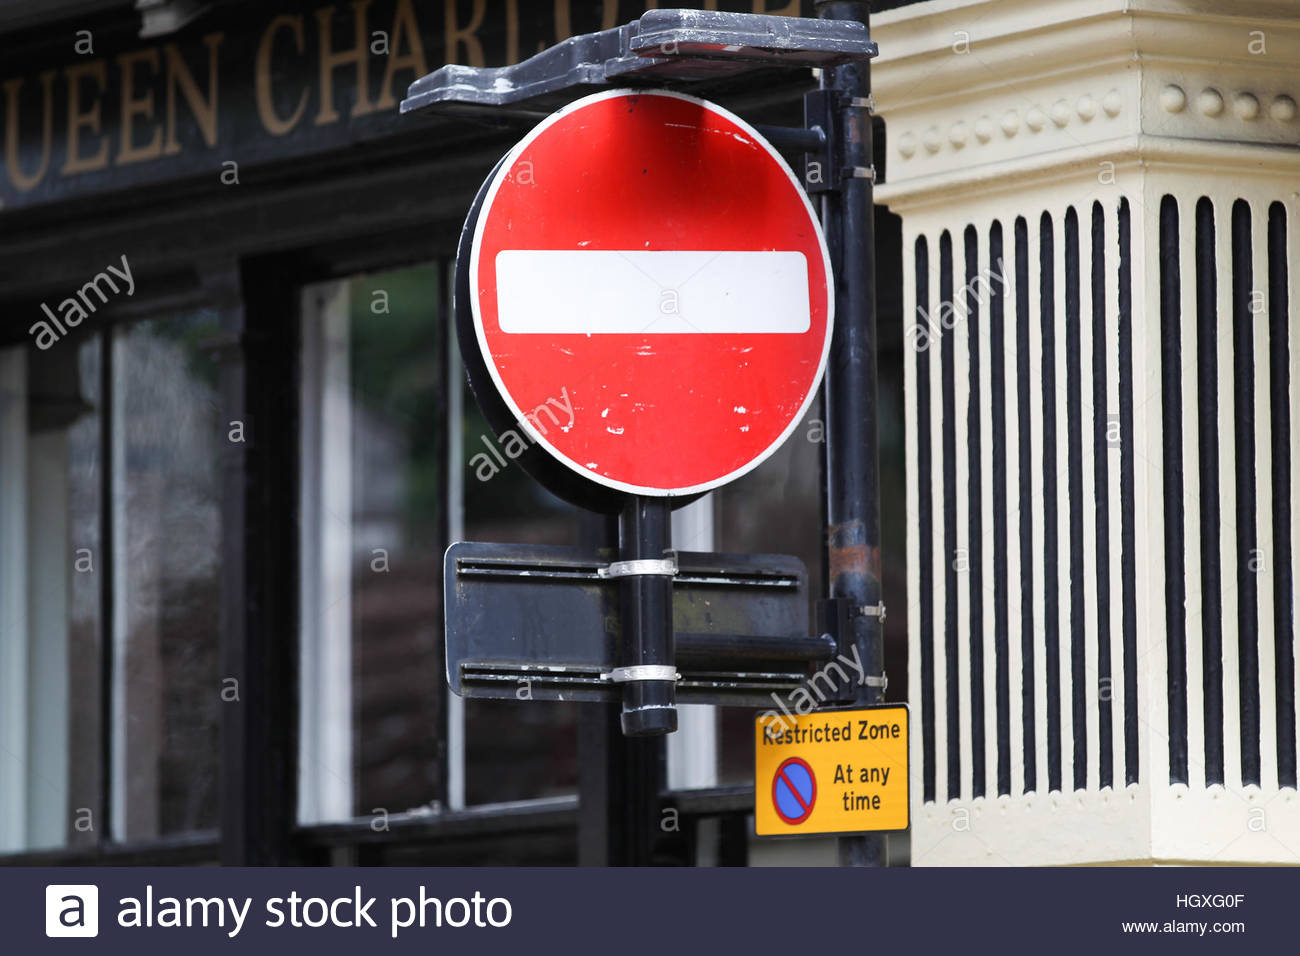No_entry: (465, 90, 836, 500)
